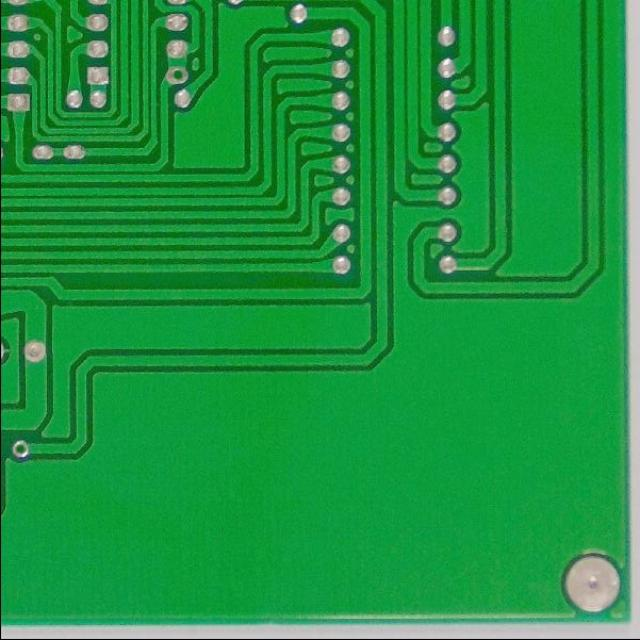missing_hole: (4, 438, 32, 465), (163, 64, 191, 90)
